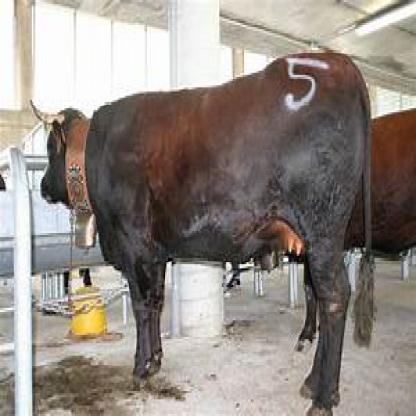cow: (29, 50, 376, 414)
